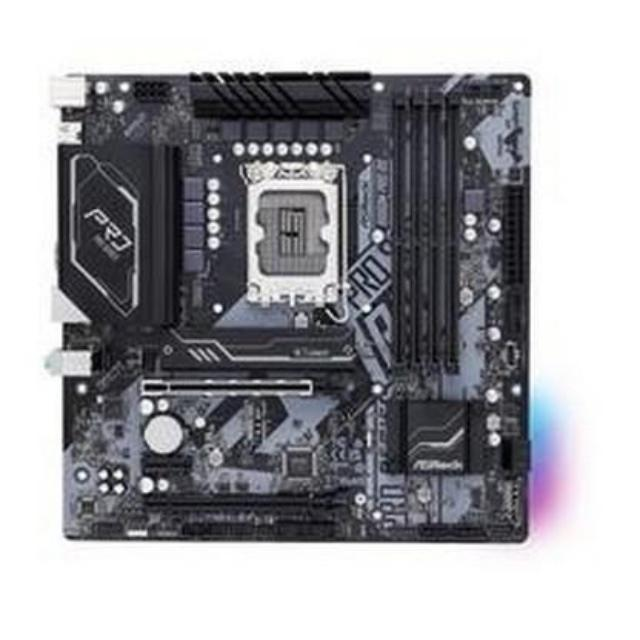Mainboard: (52, 61, 538, 553)
